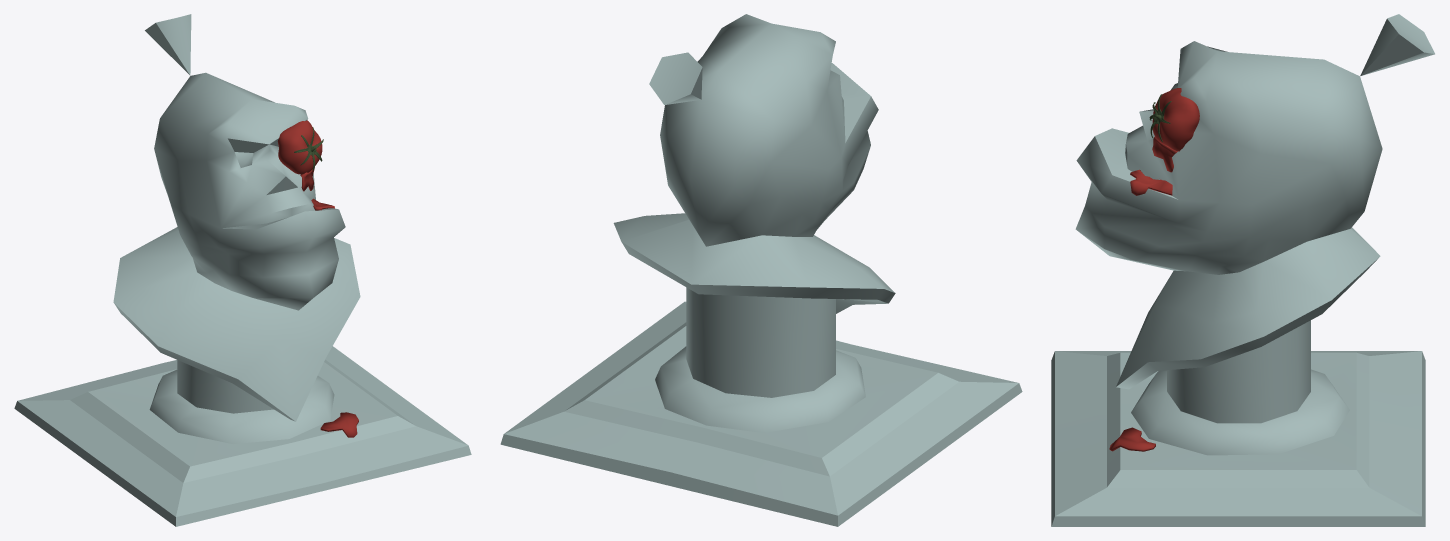
Rendered from 101_funfrock_statue.glb.
3 views of the same model, side by side, from view 1: azimuth 30°, elevation 25°; view 2: azimuth 150°, elevation 25°; view 3: azimuth 270°, elevation 25° (orthographic). The views are drawn at different scales.
Parts seen in each view (by area): view 1: statue, tomatojoined, Plane.006; view 2: statue; view 3: statue, tomatojoined, Plane.005, Plane.006.
Boxes of the visible parts, left/top/right/bottom form: statue: left=14, top=14, right=471, bottom=526; tomatojoined: left=277, top=120, right=323, bottom=174; Plane.006: left=320, top=412, right=358, bottom=437; statue: left=500, top=14, right=1022, bottom=526; statue: left=1051, top=14, right=1434, bottom=526; tomatojoined: left=1149, top=88, right=1199, bottom=151; Plane.005: left=1130, top=169, right=1172, bottom=195; Plane.006: left=1109, top=427, right=1155, bottom=451.
Size of the model in its own units: 1.49 by 1.78 by 1.45.
